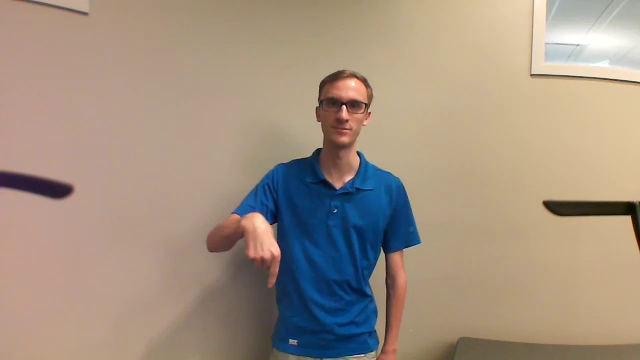down: (223, 202, 289, 295)
